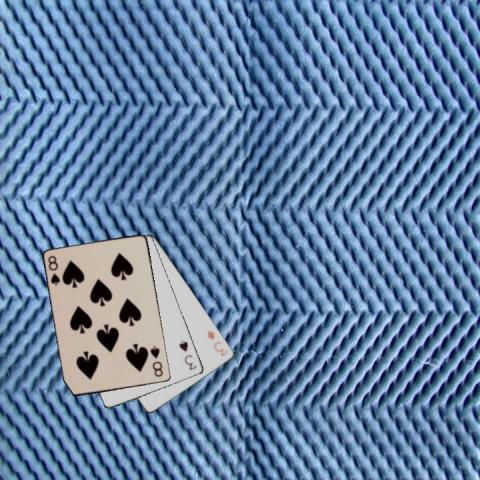3d: (205, 327, 229, 358)
3s: (177, 337, 198, 371)
8s: (147, 343, 165, 379), (46, 253, 62, 287)
